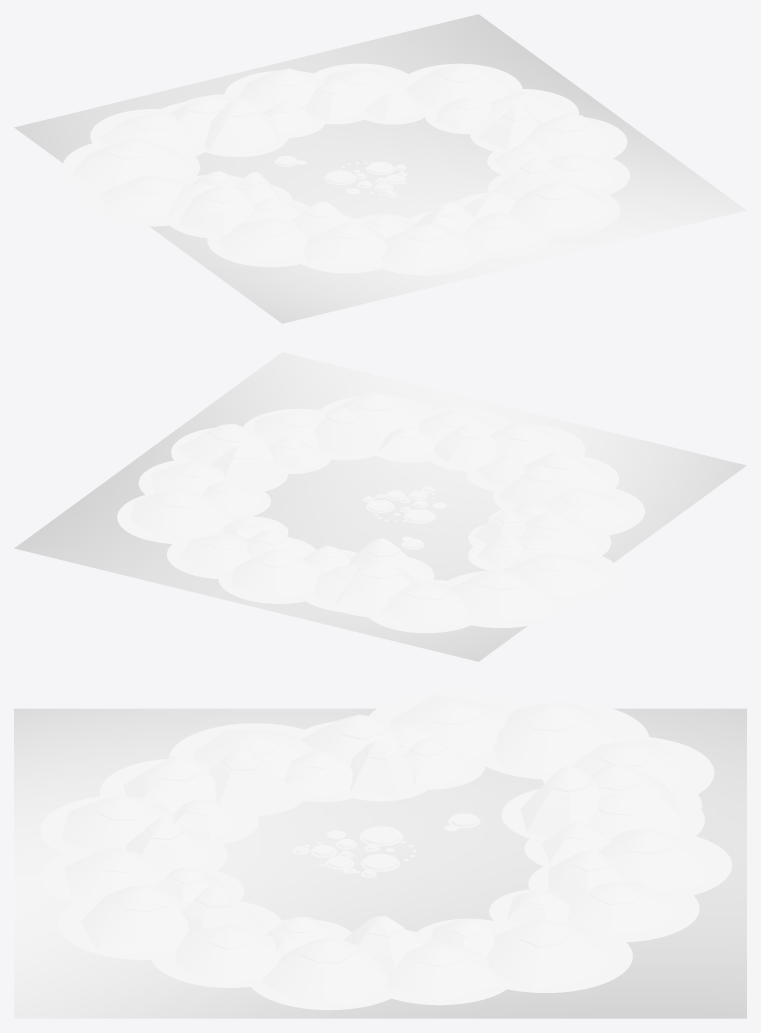
Rendered from solo.glb.
3 renders of one model, top to bottom at view 1: azimuth 30°, elevation 25°; view 2: azimuth 150°, elevation 25°; view 3: azimuth 270°, elevation 25°, orthographic. The views are drawn at different scales.
Visible parts, largest first — view 1: Ground, Mountain.031, Mountain.025, Mountain.023, Mountain.029, Mountain.003, Mountain.022, Mountain.021, Mountain.027, Mountain.032, Mountain.020, Mountain.024 (+43 smaller); view 2: Ground, Mountain.031, Mountain.029, Mountain.016, Mountain.032, Mountain.030, Mountain.018, Mountain.011, Mountain.021, Mountain.023, Mountain.015, Mountain.009 (+44 smaller); view 3: Ground, Mountain.029, Mountain.031, Mountain.027, Mountain.025, Mountain.026, Mountain.028, Mountain.016, Mountain.015, Mountain.023, Mountain.032, Mountain.007 (+68 smaller).
Part boxes in pixels (box(x1,y1,x2,y2)): Ground: box(14, 14, 746, 323); Mountain.031: box(71, 144, 192, 188); Mountain.025: box(509, 186, 613, 230); Mountain.023: box(380, 225, 471, 271); Mountain.029: box(405, 66, 514, 109); Mountain.003: box(204, 107, 279, 151); Mountain.022: box(303, 226, 388, 266); Mountain.021: box(218, 220, 308, 259); Mountain.027: box(521, 117, 617, 158); Mountain.032: box(99, 175, 191, 218); Mountain.020: box(179, 190, 256, 235); Mountain.024: box(461, 213, 543, 251); Ground: box(14, 352, 746, 661); Mountain.031: box(450, 571, 560, 620); Mountain.029: box(130, 493, 230, 537); Mountain.016: box(232, 555, 325, 598); Mountain.032: box(504, 552, 613, 596); Mountain.030: box(380, 583, 470, 625); Mountain.018: box(335, 567, 420, 610); Mountain.011: box(314, 417, 381, 454); Mountain.021: box(542, 488, 637, 530); Mountain.023: box(489, 427, 571, 464); Mountain.015: box(180, 534, 252, 572); Mountain.009: box(434, 432, 497, 465); Ground: box(14, 708, 746, 1018); Mountain.029: box(486, 923, 615, 989); Mountain.031: box(493, 703, 621, 772); Mountain.027: box(261, 943, 388, 1004); Mountain.025: box(81, 887, 189, 954); Mountain.026: box(176, 929, 281, 984); Mountain.028: box(387, 940, 498, 1000); Mountain.016: box(598, 830, 711, 892); Mountain.015: box(567, 880, 681, 935); Mountain.023: box(61, 799, 173, 853); Mountain.032: box(390, 695, 508, 759); Mountain.007: box(208, 755, 290, 812).
Size of the model in its own units: 148 by 11.21 by 140.
Materials: 15 (1 with a texture image).
